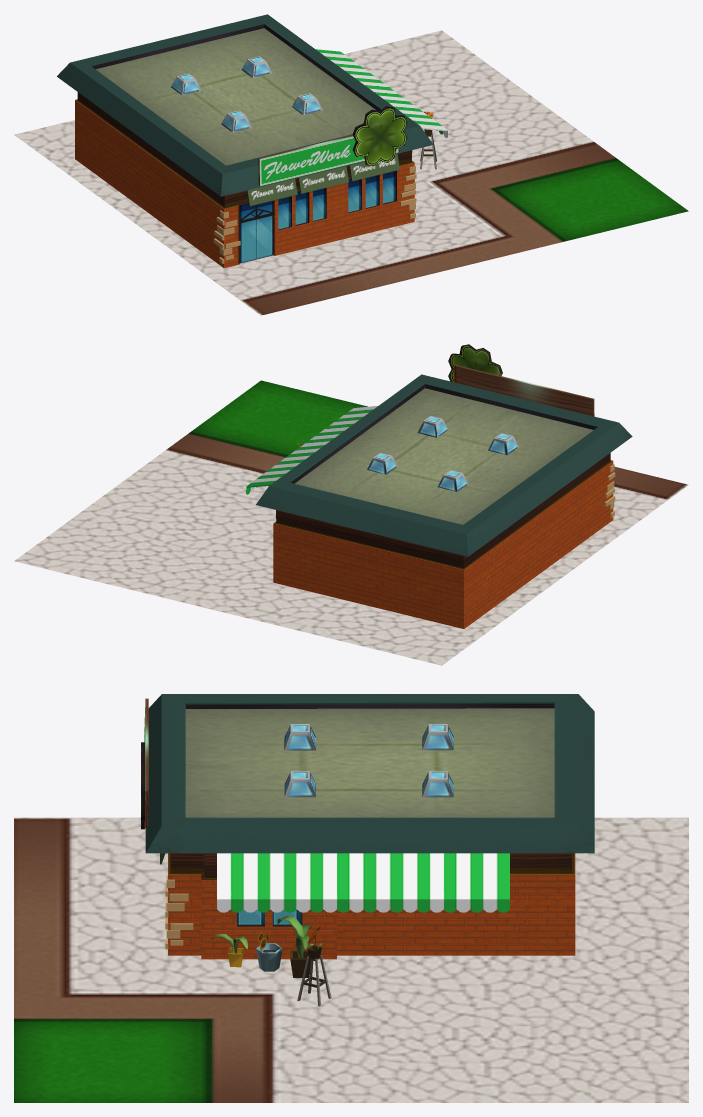
File: Tx_Exterior_Business_FlowerShopLV2 _20170802.fbx
3 renders of one model, top to bottom at view 1: azimuth 30°, elevation 25°; view 2: azimuth 150°, elevation 25°; view 3: azimuth 270°, elevation 25°, orthographic. The views are drawn at different scales.
Visible parts, largest first — view 1: Floor, Roof_Top, Building_Body, Sign_Board, Sign_3, Sign_Clover, Roof_Side; view 2: Floor, Roof_Top, Building_Body, Sign_Board, Roof_Side, Sign_Clover; view 3: Floor, Roof_Top, Building_Body, Roof_Side, plant3, plant4, plant2.
Boxes of the visible parts, left/top/right/bottom form: Floor: left=14, top=30, right=688, bottom=315; Roof_Top: left=57, top=14, right=433, bottom=196; Building_Body: left=75, top=92, right=416, bottom=268; Sign_Board: left=258, top=135, right=399, bottom=186; Sign_3: left=247, top=153, right=399, bottom=206; Sign_Clover: left=352, top=106, right=407, bottom=166; Roof_Side: left=316, top=49, right=447, bottom=137; Floor: left=14, top=380, right=688, bottom=665; Roof_Top: left=256, top=374, right=632, bottom=556; Building_Body: left=273, top=453, right=615, bottom=628; Sign_Board: left=454, top=365, right=594, bottom=416; Roof_Side: left=246, top=405, right=378, bottom=494; Sign_Clover: left=448, top=344, right=502, bottom=382; Floor: left=14, top=817, right=688, bottom=1102; Roof_Top: left=145, top=694, right=594, bottom=853; Building_Body: left=165, top=853, right=575, bottom=959; Roof_Side: left=217, top=853, right=509, bottom=912; plant3: left=277, top=916, right=311, bottom=977; plant4: left=297, top=927, right=331, bottom=1006; plant2: left=256, top=931, right=282, bottom=971.
Bounding box in the file's own units: 11.5 × 3.4 × 11.5.
